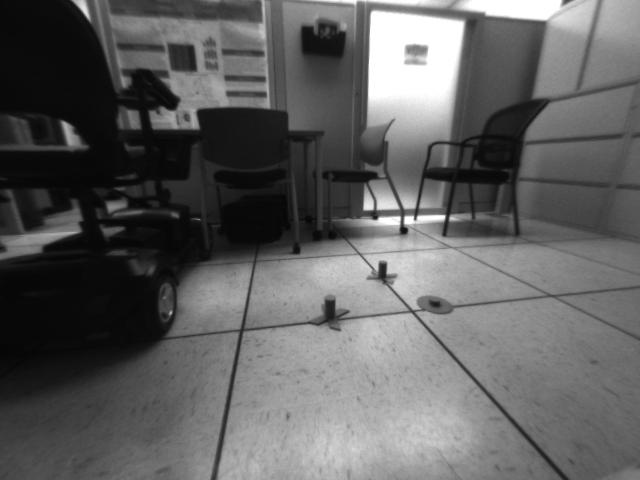X: (309, 294, 351, 331), (367, 257, 400, 287)
